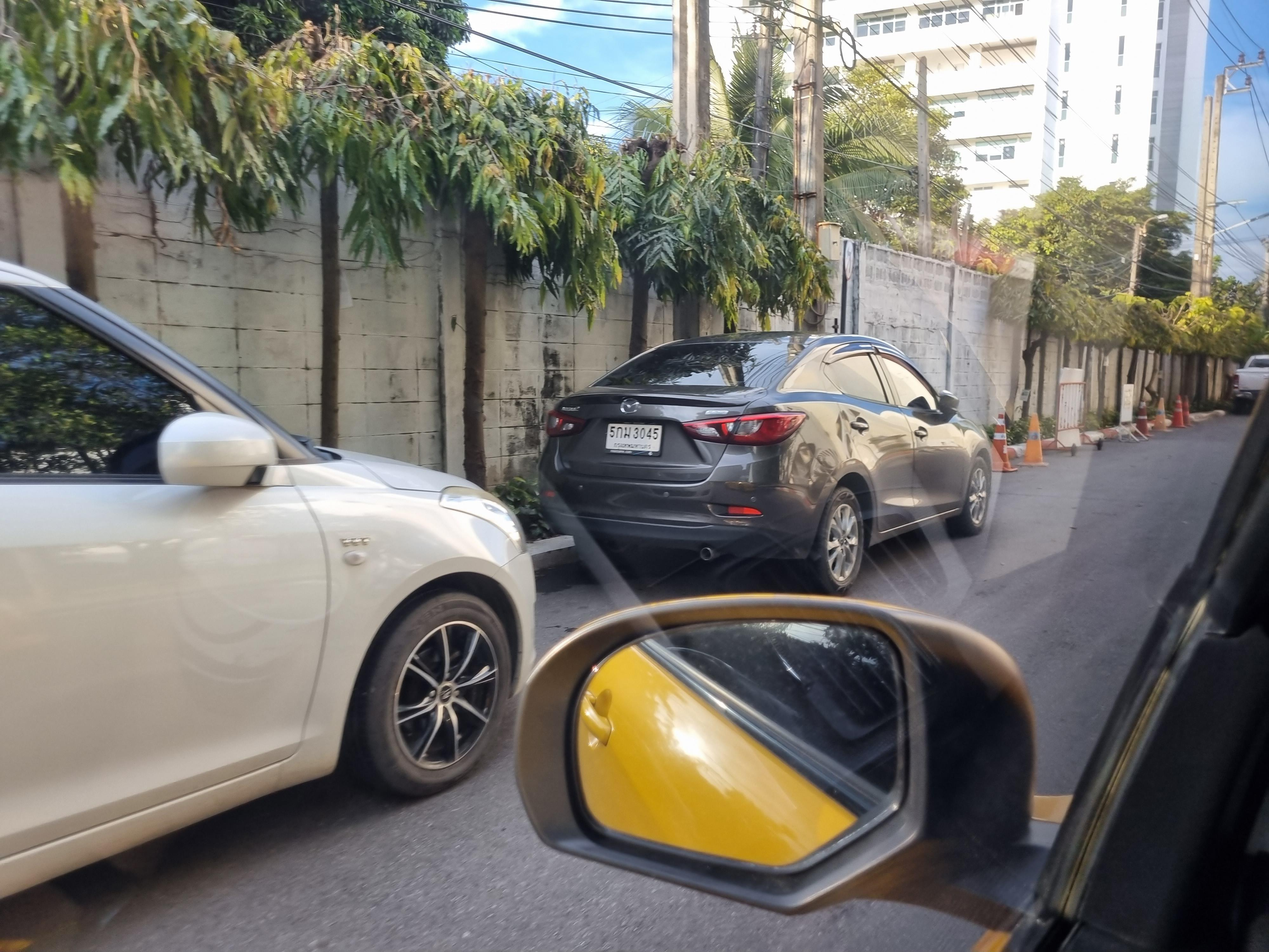license-plate: (602, 413, 669, 461)
